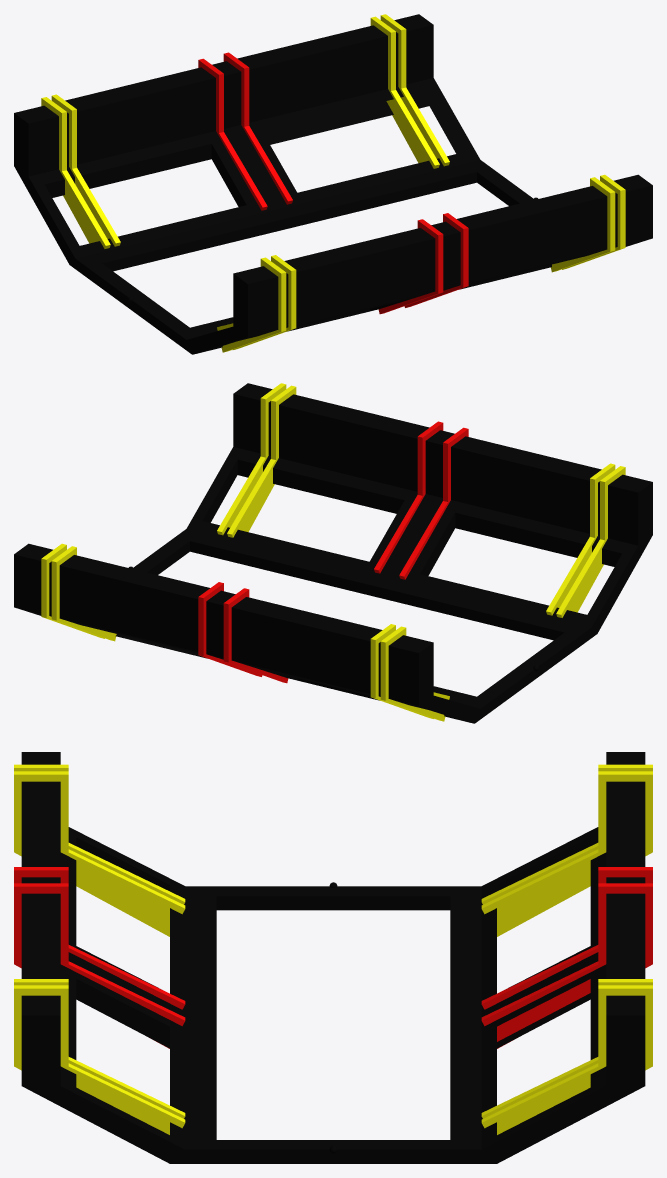
Rendered from trail.glb.
3 renders of one model, top to bottom at view 1: azimuth 30°, elevation 25°; view 2: azimuth 150°, elevation 25°; view 3: azimuth 270°, elevation 25°, orthographic. The views are drawn at different scales.
Visible parts, largest first — view 1: Fork, Delimiter3, Delimiter2, Delimiter1, Delimiter2.001, Delimiter4, Delimiter1.001; view 2: Fork, Delimiter3, Delimiter2, Delimiter1, Delimiter2.001, Delimiter4, Delimiter1.001; view 3: Fork, Delimiter4, Delimiter1, Delimiter1.001, Delimiter2.001, Delimiter3, Delimiter2.
Boxes of the visible parts, bbox=[...] form: Fork: bbox=[14, 14, 652, 354]; Delimiter3: bbox=[41, 97, 286, 352]; Delimiter2: bbox=[370, 16, 615, 272]; Delimiter1: bbox=[380, 14, 625, 269]; Delimiter2.001: bbox=[198, 58, 443, 314]; Delimiter4: bbox=[51, 94, 296, 349]; Delimiter1.001: bbox=[223, 52, 468, 307]; Fork: bbox=[14, 383, 652, 723]; Delimiter3: bbox=[380, 466, 625, 721]; Delimiter2: bbox=[51, 385, 296, 641]; Delimiter1: bbox=[41, 383, 286, 638]; Delimiter2.001: bbox=[223, 427, 468, 683]; Delimiter4: bbox=[370, 463, 615, 718]; Delimiter1.001: bbox=[198, 421, 443, 676]; Fork: bbox=[21, 752, 645, 1163]; Delimiter4: bbox=[14, 771, 652, 936]; Delimiter1: bbox=[14, 985, 652, 1134]; Delimiter1.001: bbox=[14, 883, 652, 1048]; Delimiter2.001: bbox=[14, 867, 652, 1009]; Delimiter3: bbox=[14, 764, 652, 904]; Delimiter2: bbox=[14, 979, 652, 1118].
Bounding box in the file's own units: 8.1 × 2.3 × 8.2.
